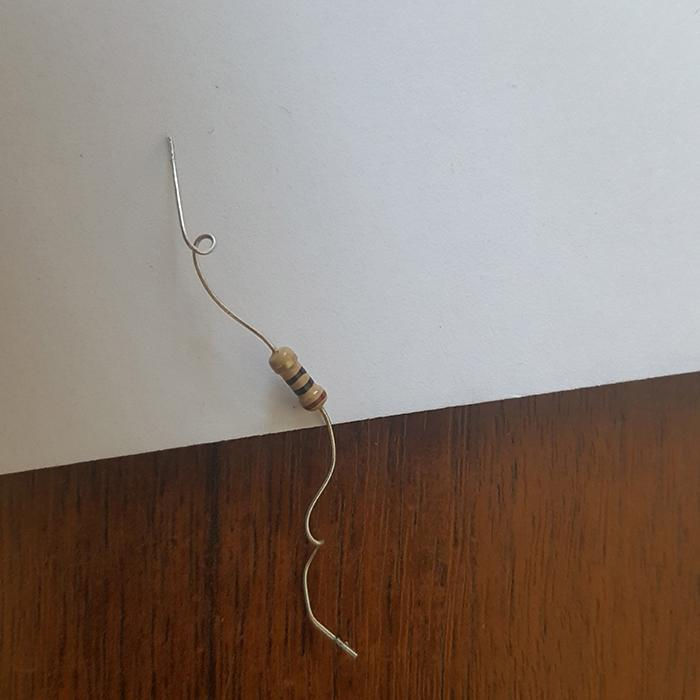resistor: (267, 345, 326, 412)
